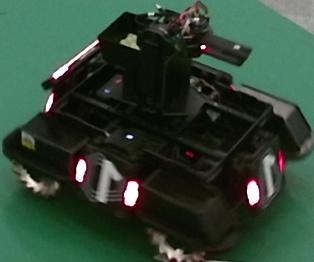armor_1: (76, 158, 139, 207)
front_1: (260, 148, 281, 208)
light: (54, 40, 101, 79)
right_1: (82, 152, 127, 203)
